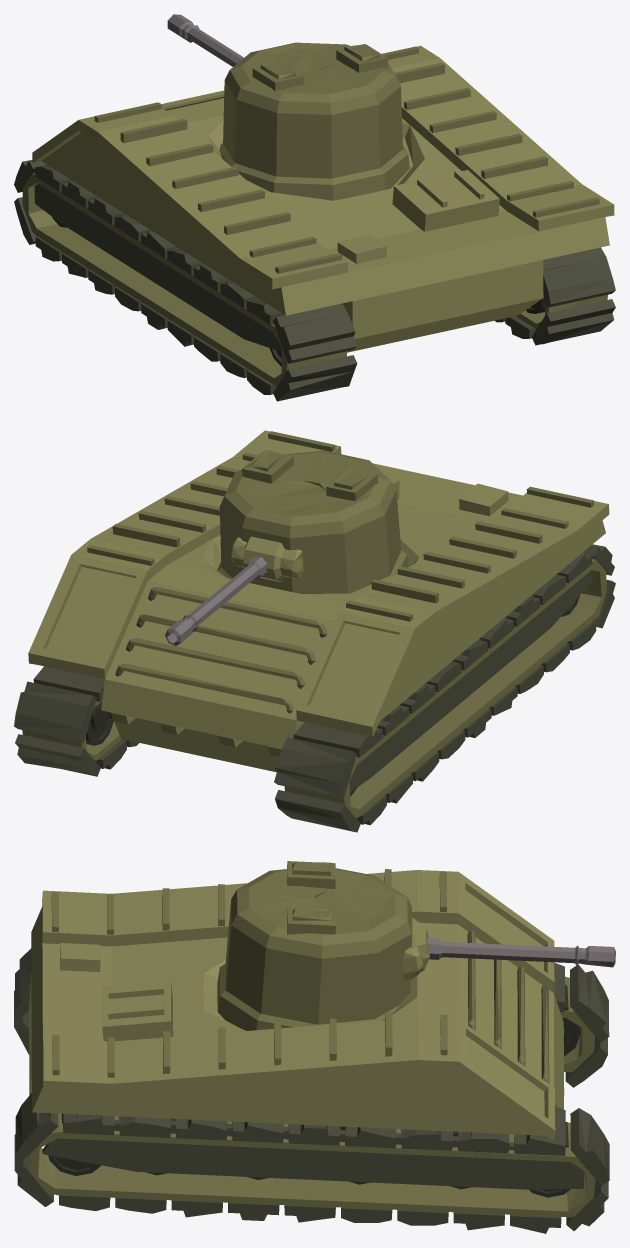
Rendered from tank_recruit.glb.
The picture shows the model from 3 angles, top to bottom: view 1: azimuth 30°, elevation 25°; view 2: azimuth 150°, elevation 25°; view 3: azimuth 270°, elevation 25°; orthographic projection. The views are drawn at different scales.
Parts seen in each view (by area): view 1: TankBody, TankTurret; view 2: TankBody, TankTurret; view 3: TankBody, TankTurret.
Boxes of the visible parts, x1,y1,x2,y2 form: TankBody: (14,45,615,401); TankTurret: (167,14,409,200); TankBody: (14,430,615,832); TankTurret: (165,450,408,646); TankBody: (14,869,609,1233); TankTurret: (217,861,615,1030).
Size of the model in its own units: 2.6 by 1.78 by 3.66.
